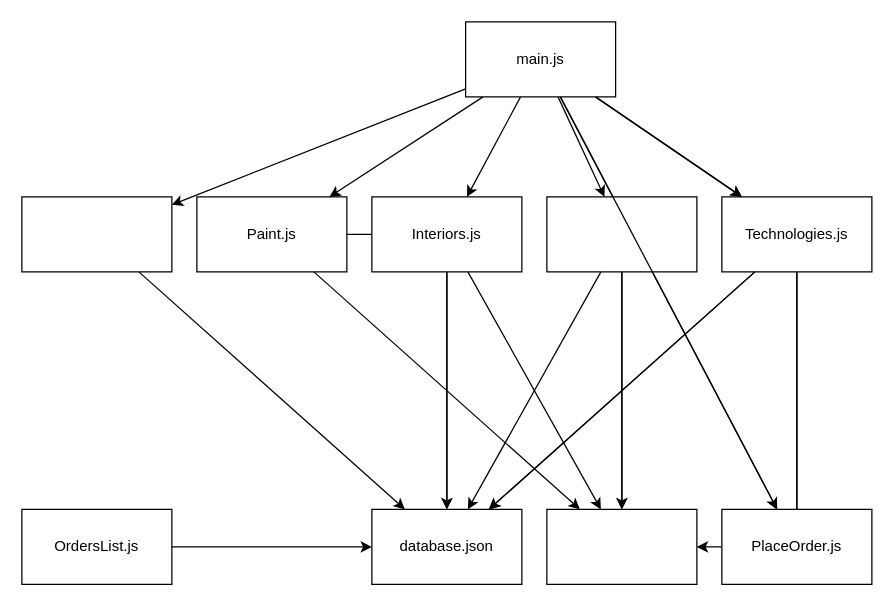
Image size: 894x606. Some labels were removed from this diagram. The shapes that lost their labels are listed below. From the top down, each one's centre as x and y in pixels, then its label:
At [96,234]: "Order.js".
At [621,234]: "Wheels.js".
At [621,546]: "TransientState.js".
